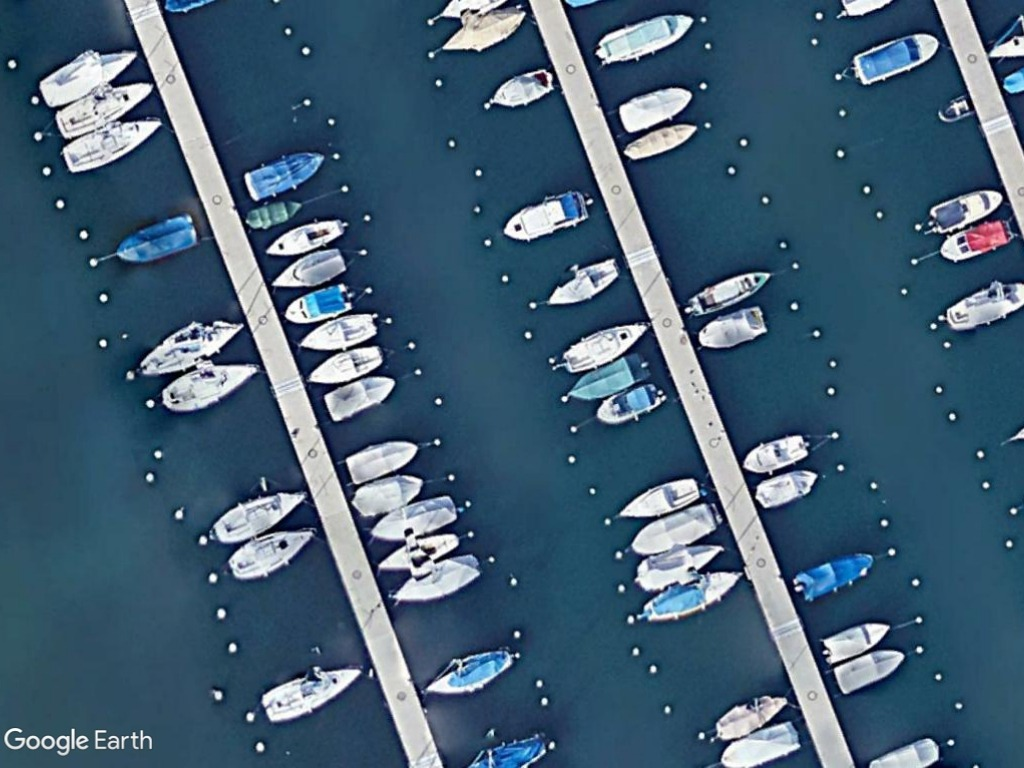boat: (136, 312, 243, 377), (259, 659, 364, 725), (56, 114, 162, 177), (37, 44, 135, 110), (640, 565, 742, 626), (54, 79, 155, 140), (209, 486, 309, 547), (155, 357, 259, 415), (630, 536, 726, 595), (223, 523, 312, 583), (630, 499, 720, 556), (391, 551, 481, 607), (424, 645, 516, 699), (560, 321, 652, 375), (789, 547, 877, 603), (110, 211, 197, 267), (568, 350, 653, 407), (615, 470, 704, 524), (850, 32, 939, 86), (501, 188, 587, 242), (438, 3, 526, 55), (371, 493, 460, 543), (684, 267, 772, 316), (718, 718, 802, 768), (945, 278, 1024, 331), (318, 372, 398, 423), (376, 530, 464, 576), (545, 255, 621, 308), (828, 647, 907, 697), (244, 148, 324, 197), (263, 213, 348, 258), (343, 436, 418, 486), (306, 343, 386, 389), (696, 302, 769, 352), (297, 308, 378, 353), (937, 215, 1014, 262), (928, 187, 1003, 235), (272, 245, 348, 292), (617, 86, 692, 133), (349, 473, 427, 518), (819, 618, 892, 666), (595, 376, 665, 426), (712, 693, 787, 738), (741, 429, 814, 475), (283, 281, 357, 326), (619, 120, 699, 161), (488, 66, 556, 109), (751, 466, 819, 509), (244, 193, 307, 234)
